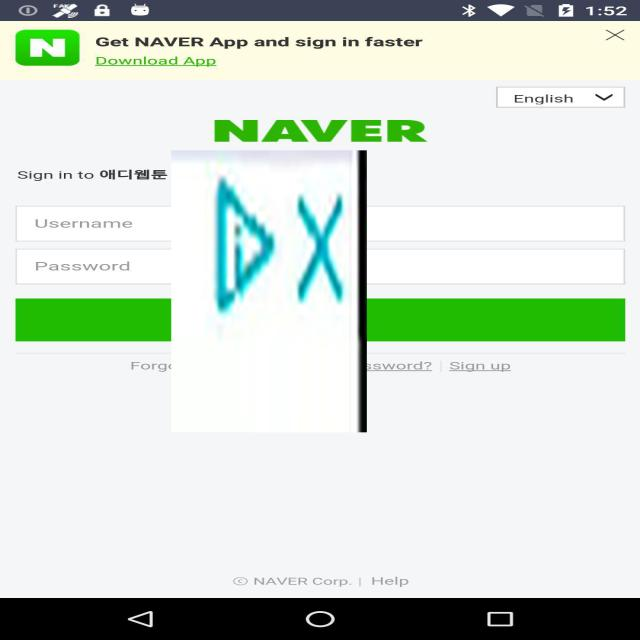sneaking: (171, 150, 367, 432)
